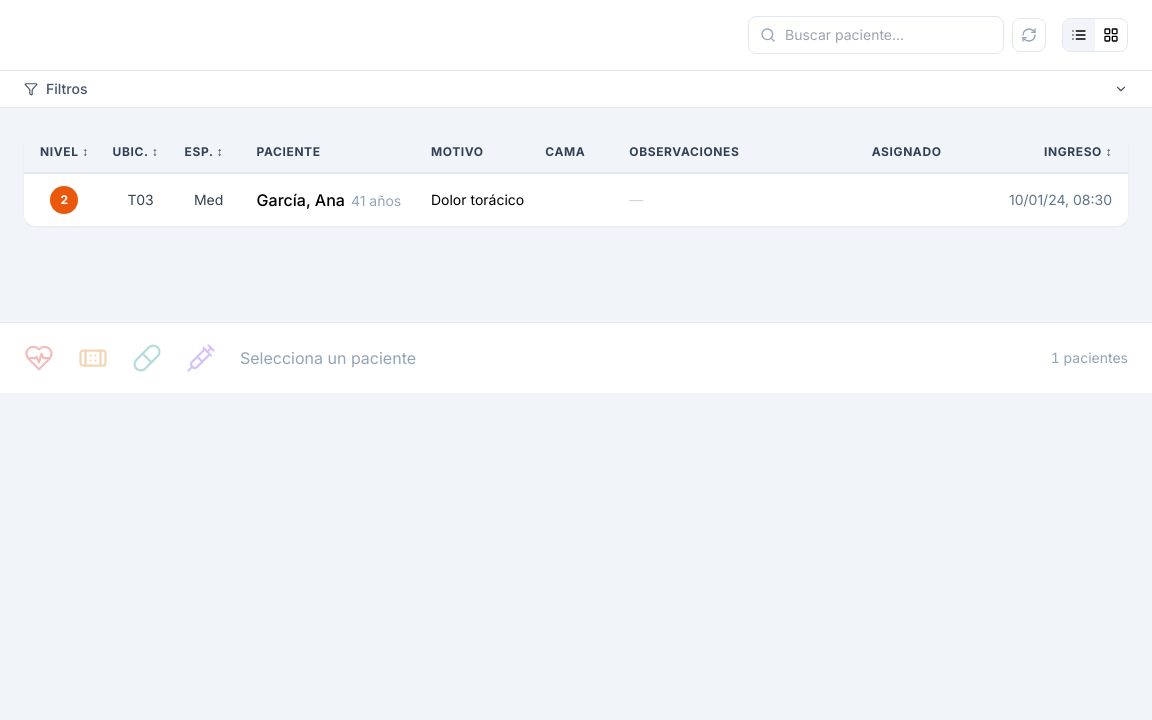
Test: Empty locations feature › shows Sucia badge and priority when location is dirty
Expected: the text "García, Ana" is shown, [241,173,419,226]
What coordinates should you click on to do the following:
click the button "Filtros"
I would click on:
 (67, 88)
Its box is [0,71,1151,107].
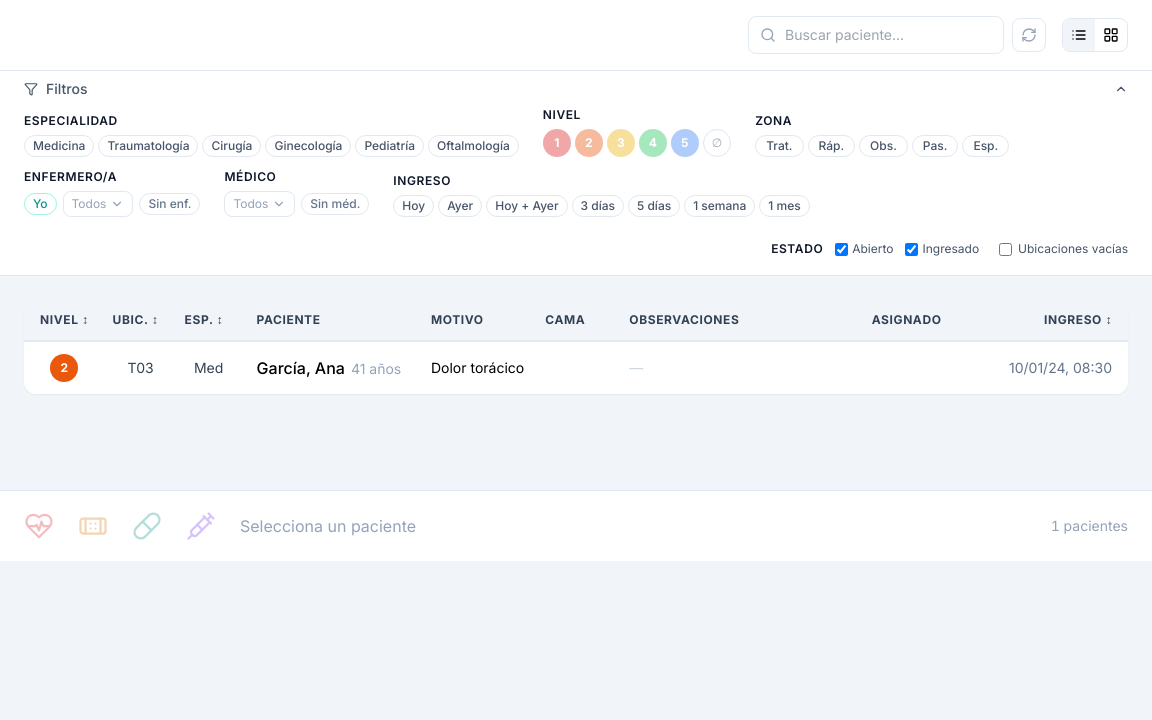
What coordinates should you click on to do the following:
click the checkbox with test id "show-empty-locations"
I would click on:
 (1006, 249)
Its box is [999,242,1012,256].
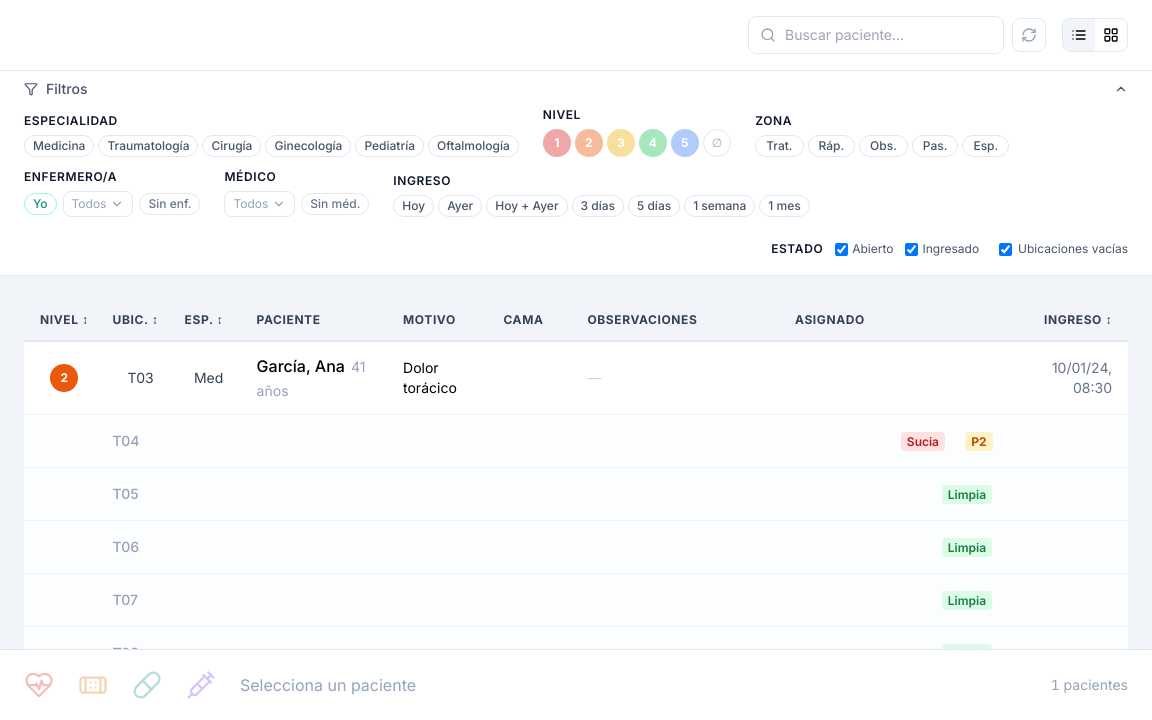
Result: the text "Sucia" is shown at [901,432,945,451]
Result: the text "P2" is shown at [965,432,993,451]
